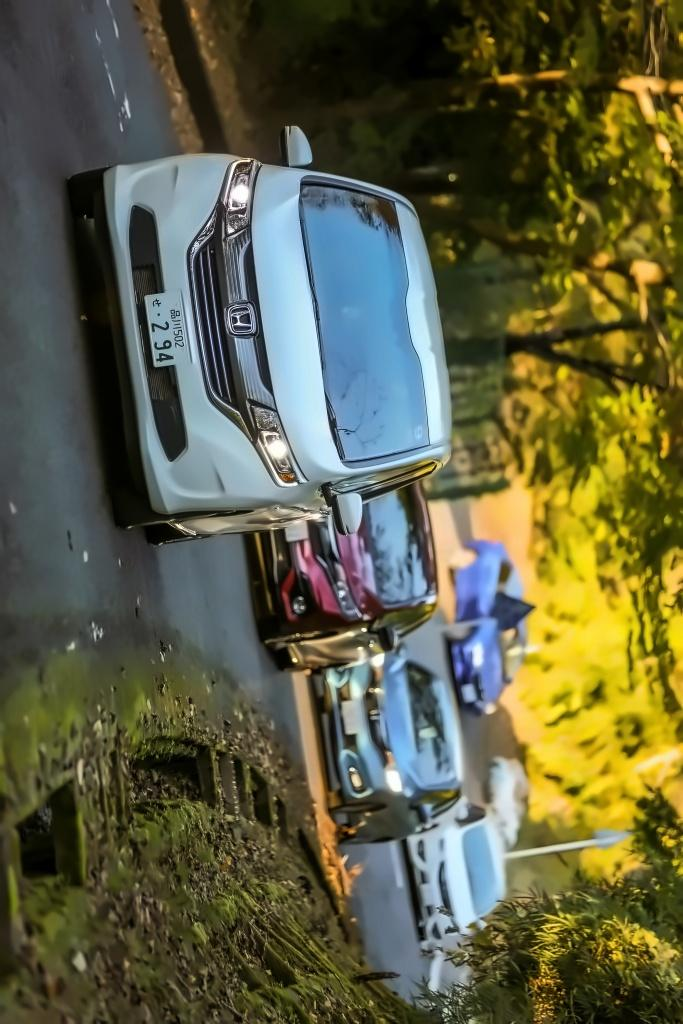Car hood: (248, 159, 345, 492), (277, 119, 315, 172)
Front bumper: (86, 153, 237, 532)
Headlight - -L-: (248, 401, 306, 487)
Headlight - -R-: (223, 154, 258, 237)
Side mirror - -L-: (323, 485, 366, 542)
